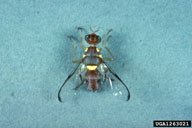Fruit fly: (54, 26, 144, 109)
